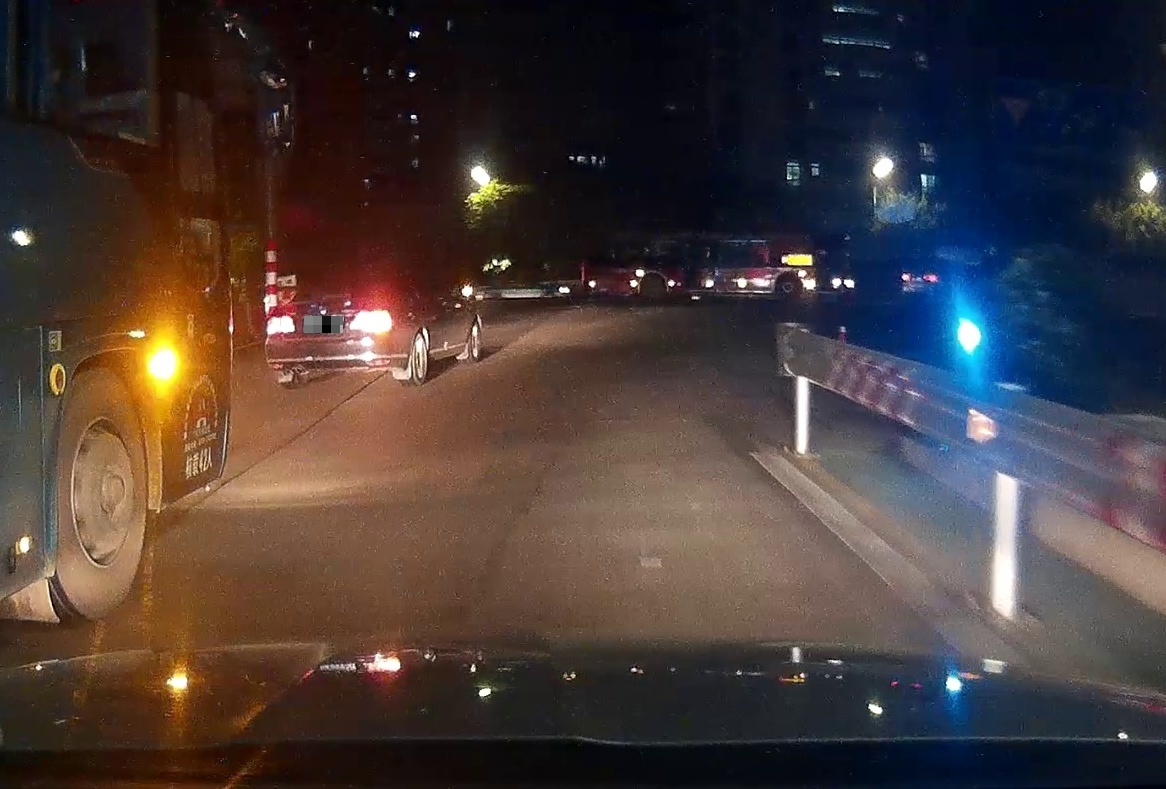L_light: (265, 315, 297, 335)
R_light: (349, 309, 393, 334)
T_light: (322, 294, 349, 300)
night-right: (265, 266, 394, 389)
plate_1: (304, 316, 343, 333)
